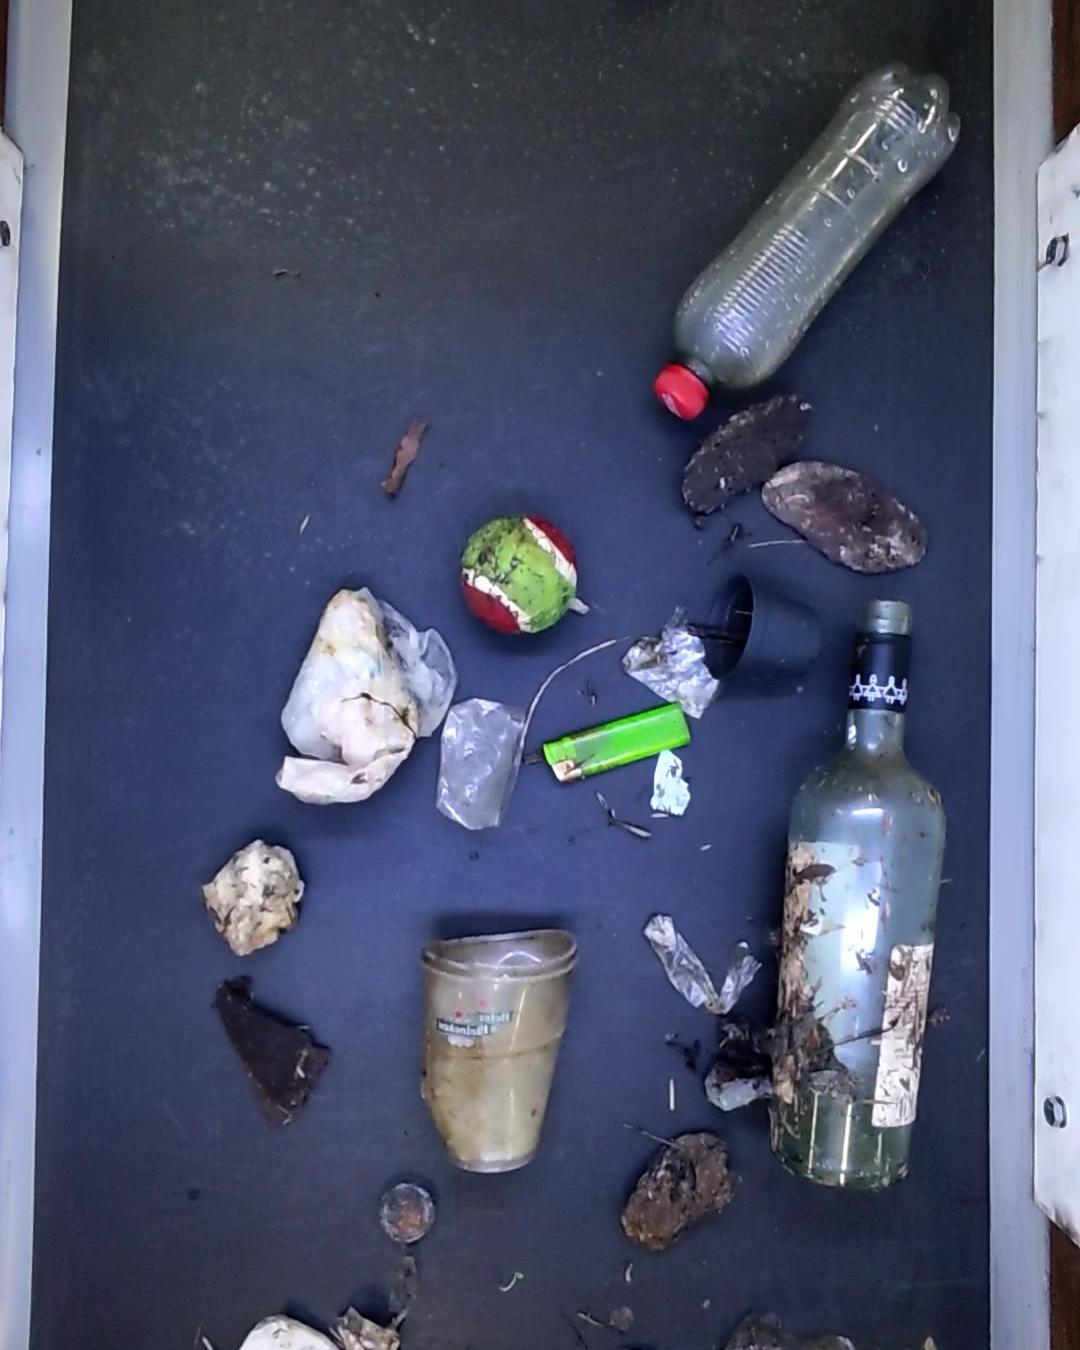Drankflessen - 1-2 liter: (658, 67, 962, 420)
Plastic folies of stukken daarvan 2.5- 50 cm: (273, 587, 457, 809), (434, 698, 527, 832), (640, 909, 757, 1013), (627, 615, 716, 717)
